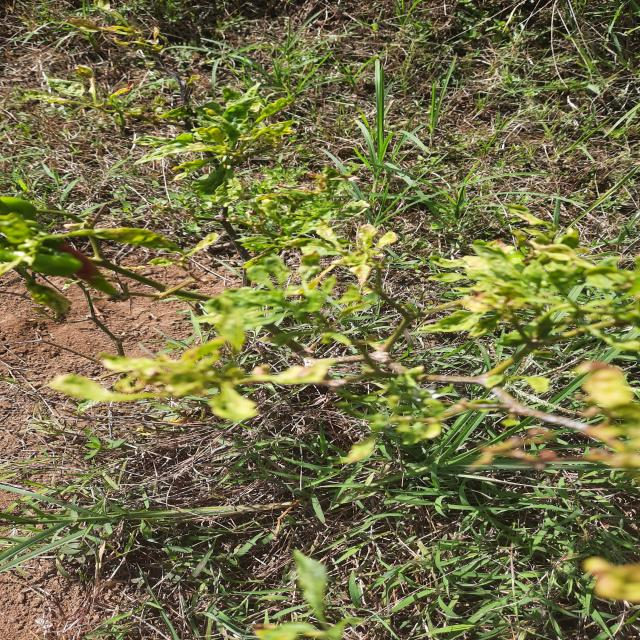virus_kuning: (41, 370, 139, 406), (350, 261, 376, 287)
